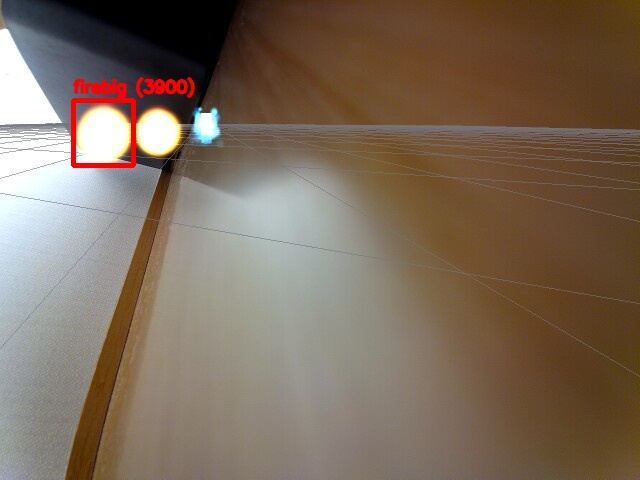firebig: (73, 100, 133, 165)
